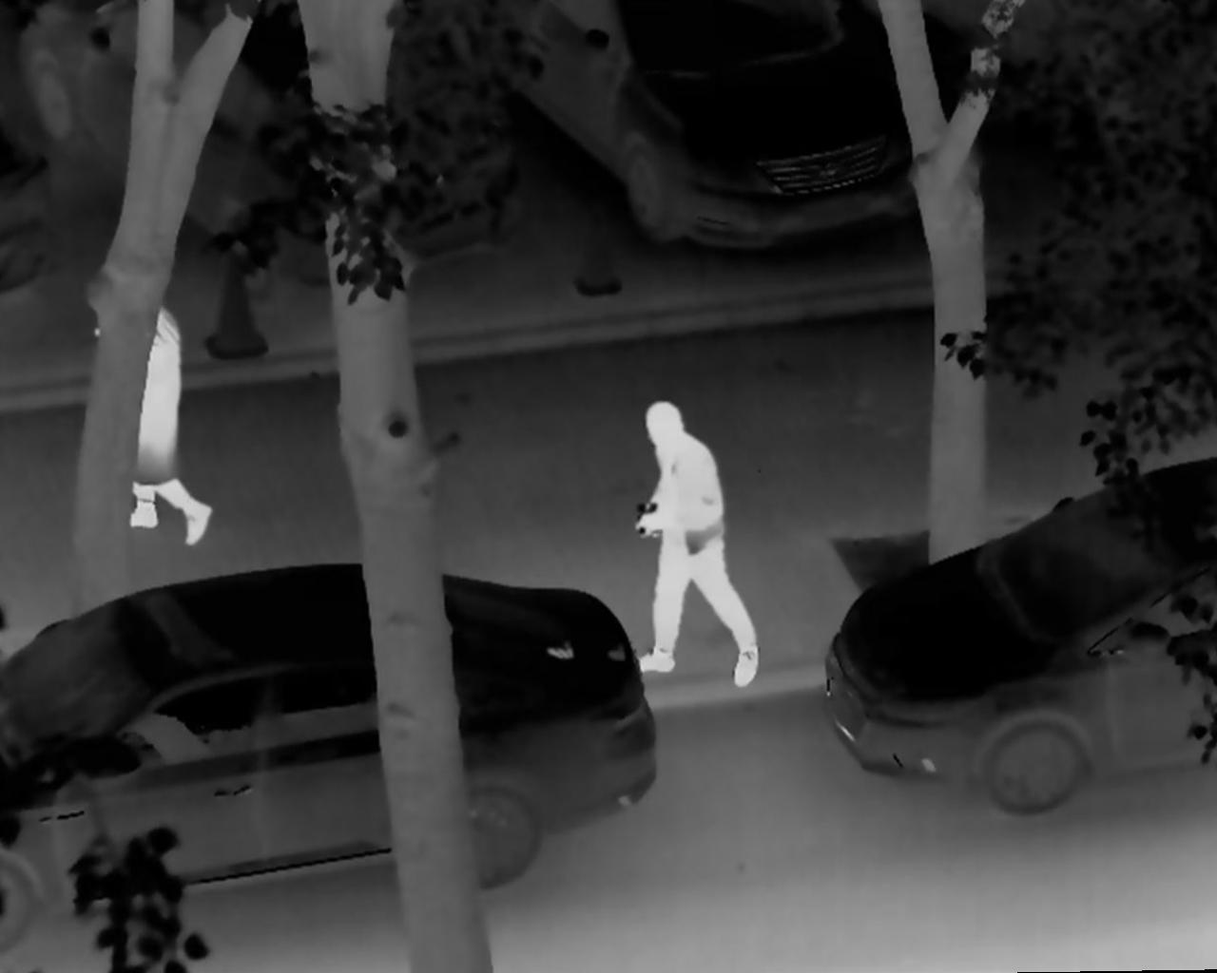person: (617, 396, 767, 691), (86, 284, 217, 560)
